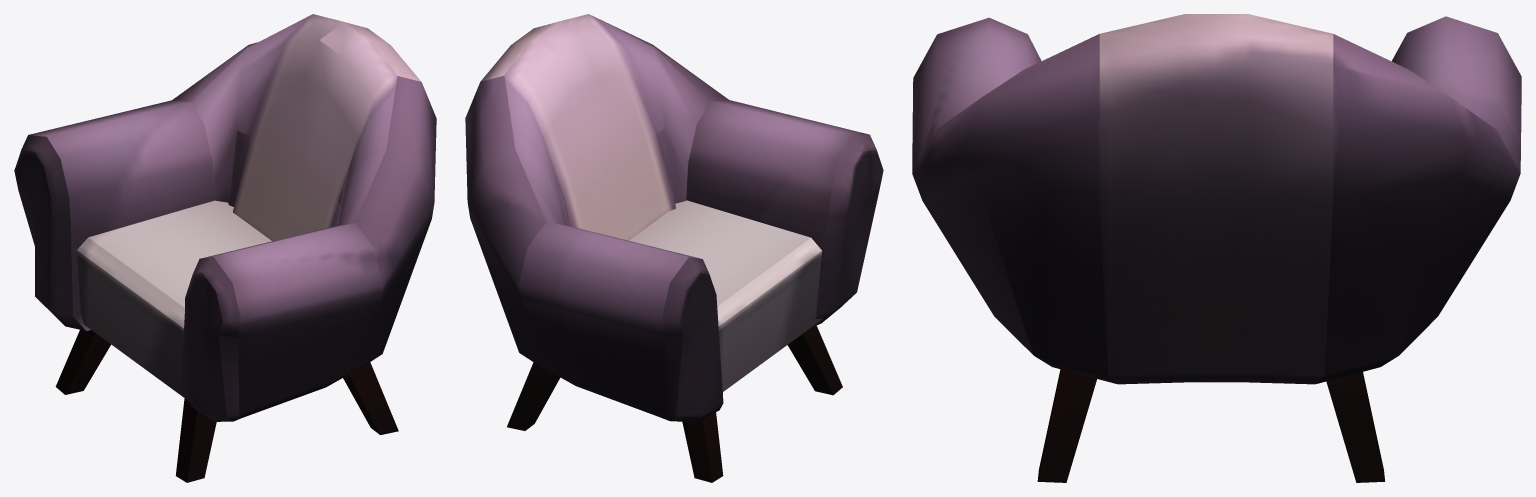
Rendered from Tx_props_chair_7.fbx.
The picture shows the model from 3 angles, left to right: view 1: azimuth 30°, elevation 25°; view 2: azimuth 150°, elevation 25°; view 3: azimuth 270°, elevation 25°; orthographic projection. The views are drawn at different scales.
Visible parts, largest first — view 1: Tx_props_chair_6; view 2: Tx_props_chair_6; view 3: Tx_props_chair_6.
Boxes of the visible parts, <box> form: Tx_props_chair_6: <box>14,14,436,482</box>; Tx_props_chair_6: <box>465,14,883,482</box>; Tx_props_chair_6: <box>912,14,1521,482</box>.
Bounding box in the file's own units: 4.05 × 4.81 × 5.51.
